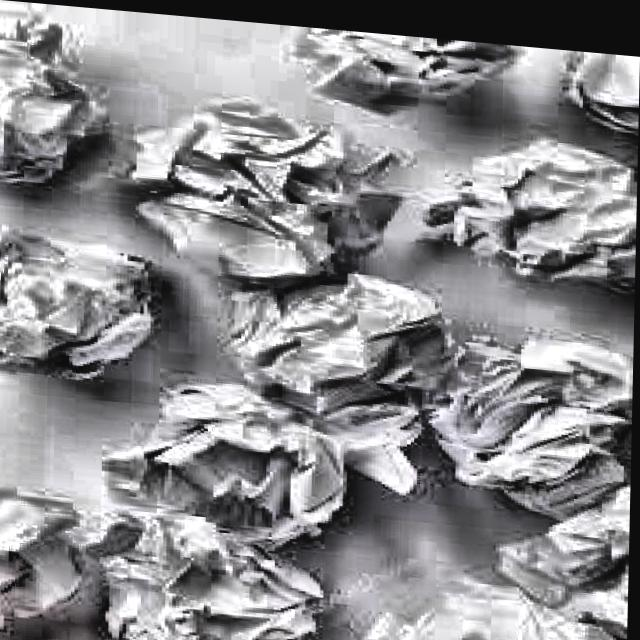Paper: (121, 88, 401, 286), (103, 369, 351, 544), (63, 487, 332, 640), (426, 319, 632, 504), (220, 253, 444, 415), (426, 121, 635, 287), (0, 218, 160, 385), (363, 557, 628, 640), (289, 20, 521, 113), (0, 2, 108, 189), (494, 461, 630, 596), (268, 373, 417, 484), (0, 474, 93, 633), (558, 39, 636, 118)
